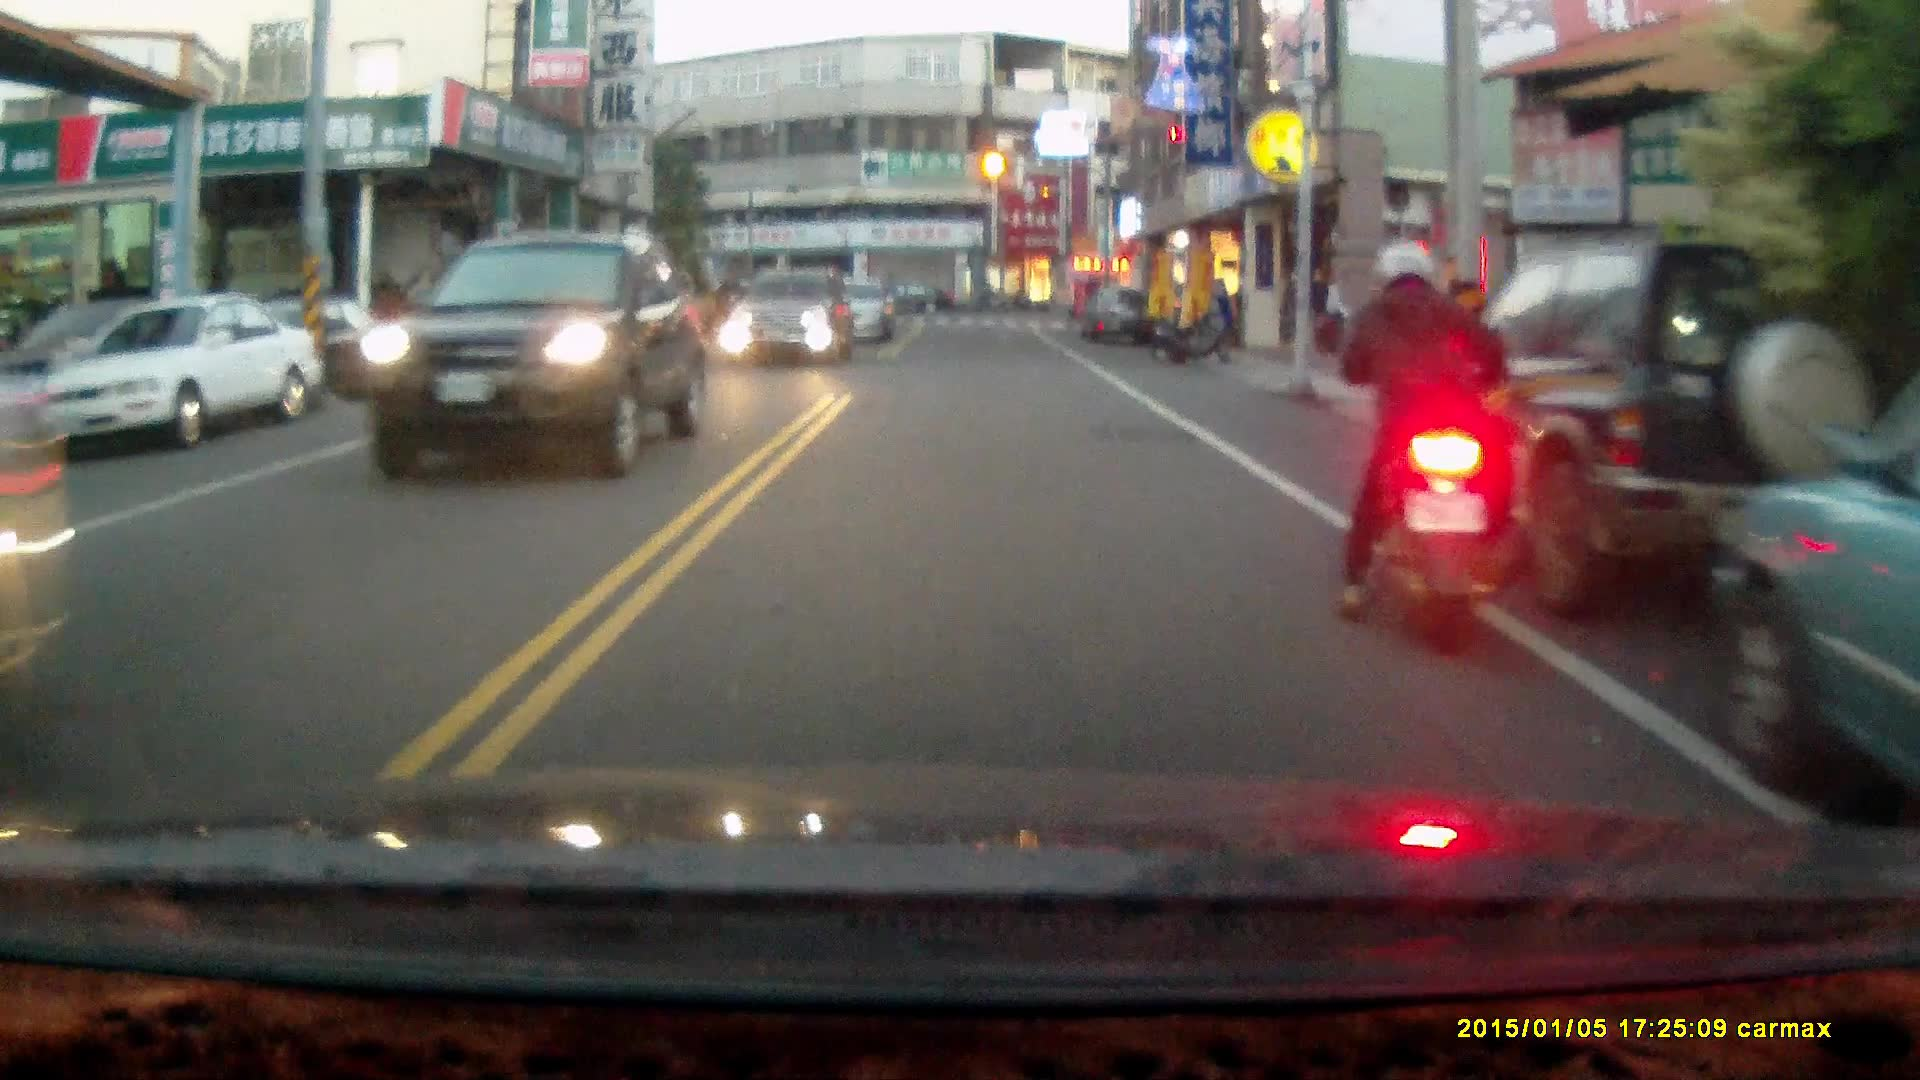rider: (1326, 236, 1540, 654)
vehicle: (1395, 240, 1920, 626), (1708, 356, 1920, 805), (358, 237, 695, 485), (27, 295, 328, 467), (720, 271, 860, 370), (1081, 286, 1153, 348)
